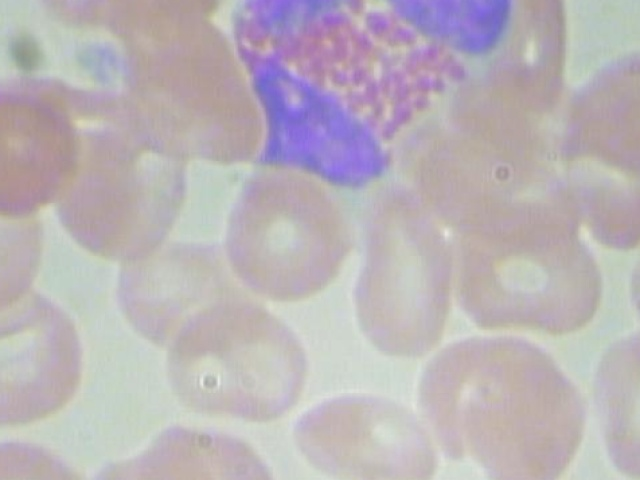Platelets: (62, 30, 130, 85)
RBC: (156, 287, 316, 426), (335, 180, 455, 363), (216, 162, 362, 305), (440, 221, 608, 337), (453, 353, 599, 480), (289, 381, 437, 480), (115, 232, 236, 343), (548, 39, 640, 180), (0, 286, 89, 429), (0, 83, 85, 226), (164, 415, 295, 480), (593, 299, 640, 480), (23, 0, 143, 37), (620, 224, 640, 343)
WBC: (226, 0, 524, 196)
